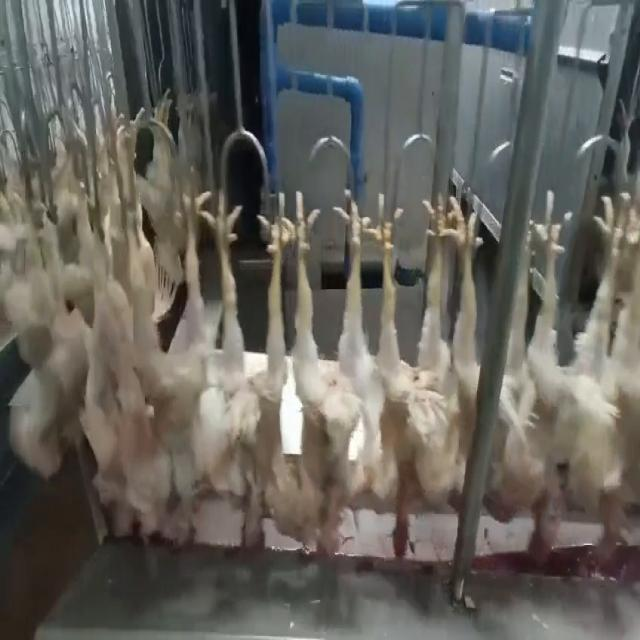chicken: (368, 183, 473, 562), (286, 184, 377, 570), (117, 192, 209, 541), (210, 192, 290, 563), (494, 189, 568, 569), (572, 180, 639, 564)
